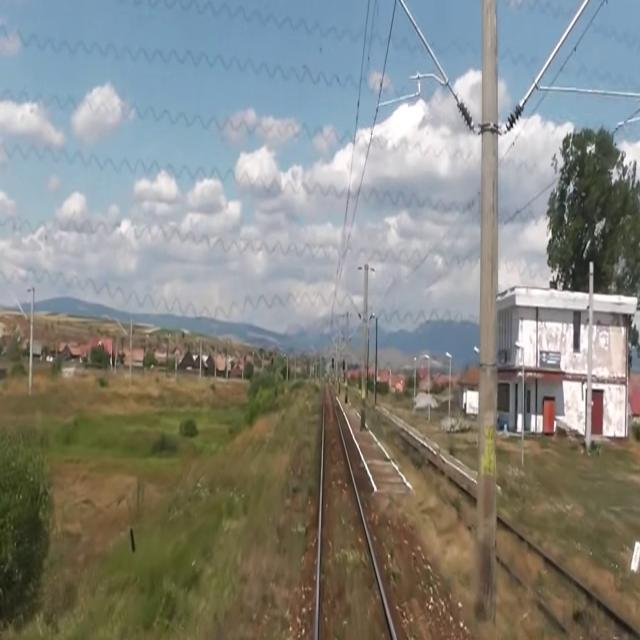rail-track: (319, 386, 391, 639), (497, 522, 636, 639), (401, 440, 475, 523)
